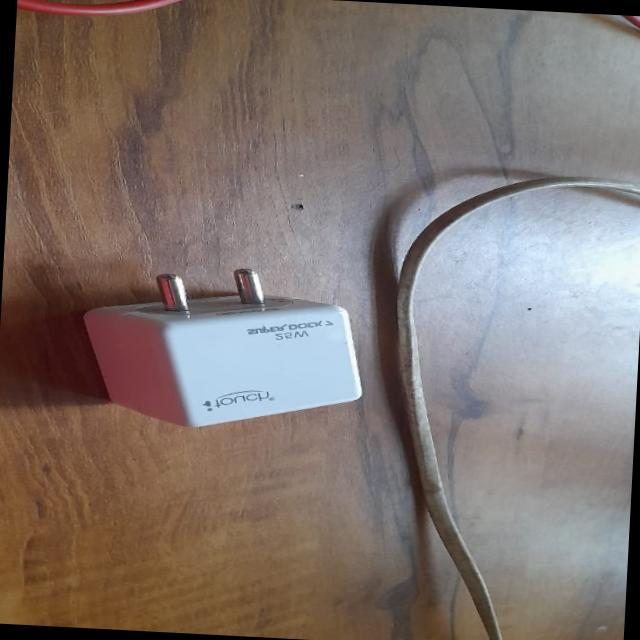Charger - Recyclable: (75, 260, 372, 438)
